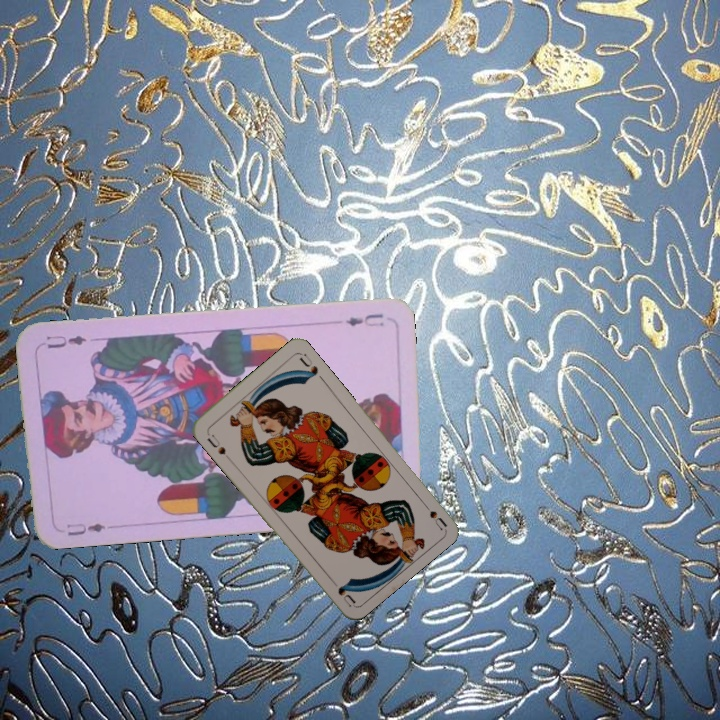EU: (63, 519, 113, 539), (342, 309, 387, 330)
SU: (417, 496, 449, 532), (203, 428, 233, 461)
